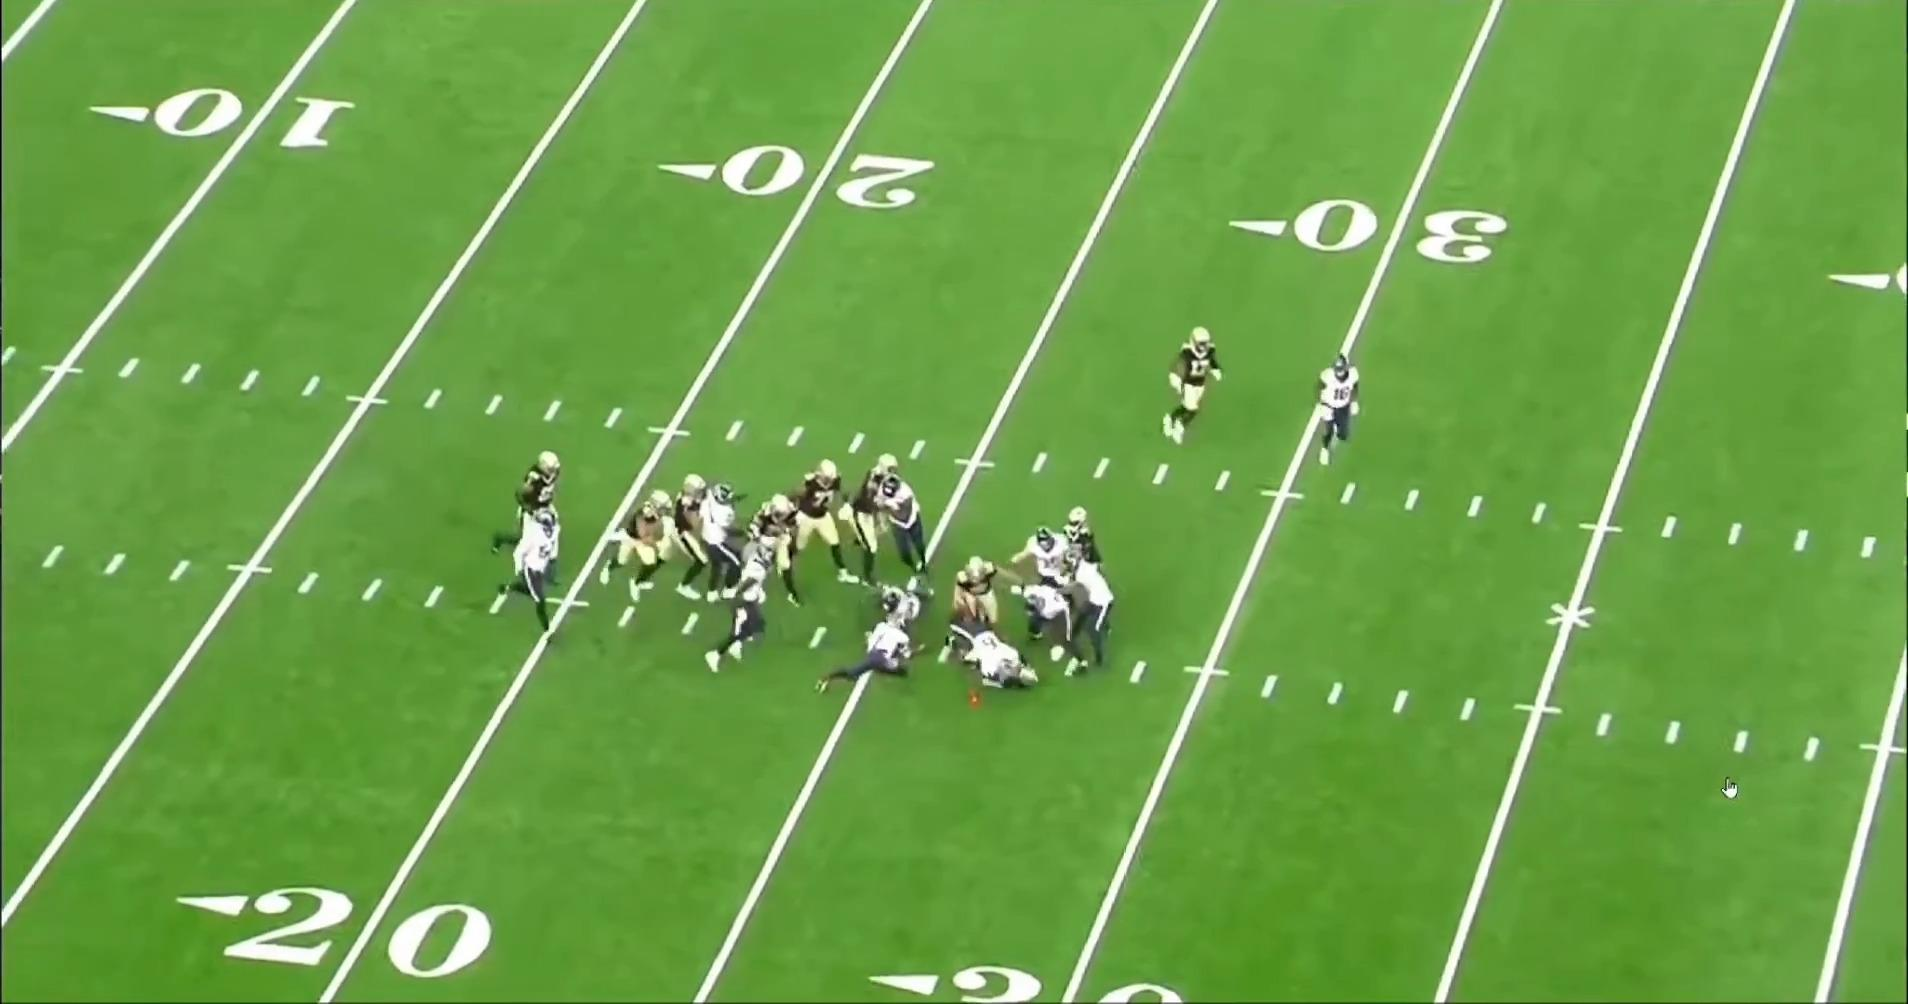defense: (704, 537, 780, 680), (508, 500, 575, 636), (1047, 551, 1121, 674), (1012, 576, 1096, 680), (816, 619, 914, 699), (1315, 352, 1376, 471), (868, 473, 933, 583), (931, 607, 1018, 687), (700, 481, 746, 605), (1009, 522, 1082, 586), (869, 573, 938, 629)
oline: (840, 456, 906, 564), (745, 489, 803, 604), (664, 470, 724, 568), (508, 446, 563, 544), (796, 457, 853, 536)
skill: (600, 490, 675, 607), (1165, 326, 1231, 452), (943, 549, 1012, 662), (1056, 503, 1110, 617), (993, 651, 1042, 692)
